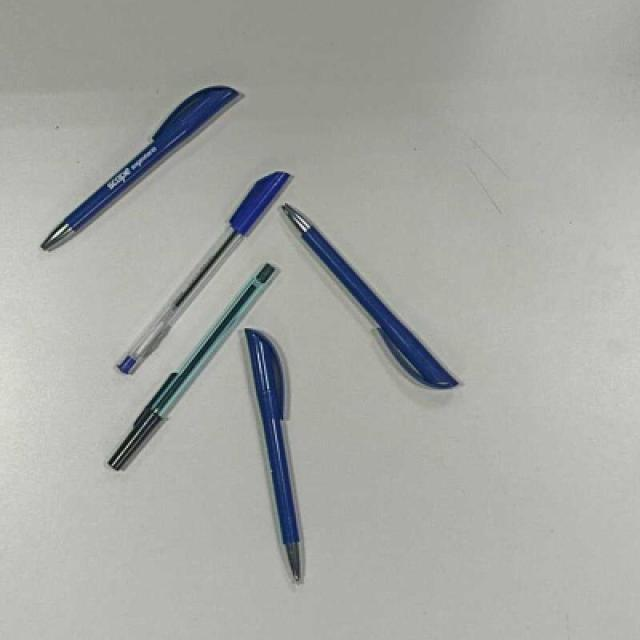caneta: (265, 200, 458, 405), (29, 71, 239, 257), (117, 161, 293, 381), (103, 258, 278, 473), (245, 324, 317, 584)
